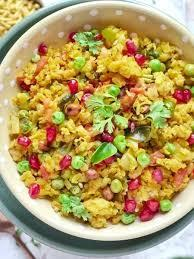poha: (11, 17, 194, 228)
